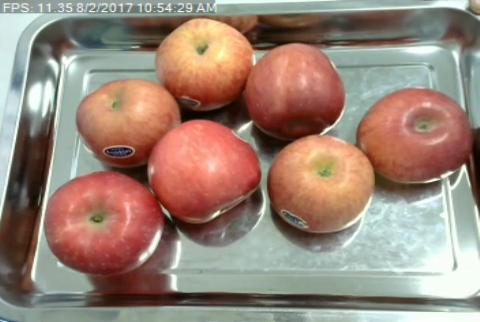apple: (44, 172, 164, 273), (146, 121, 262, 221), (269, 134, 375, 234), (359, 88, 471, 181), (249, 43, 345, 137), (156, 19, 253, 107), (75, 79, 174, 163)
